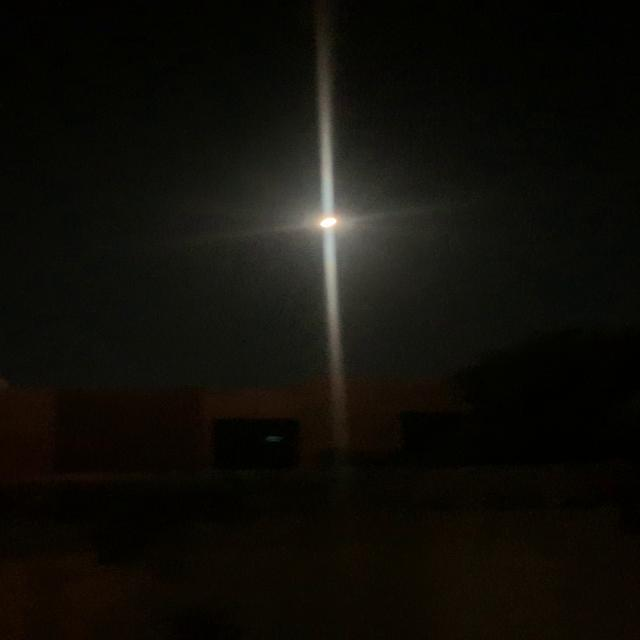moon: (312, 208, 356, 234)
